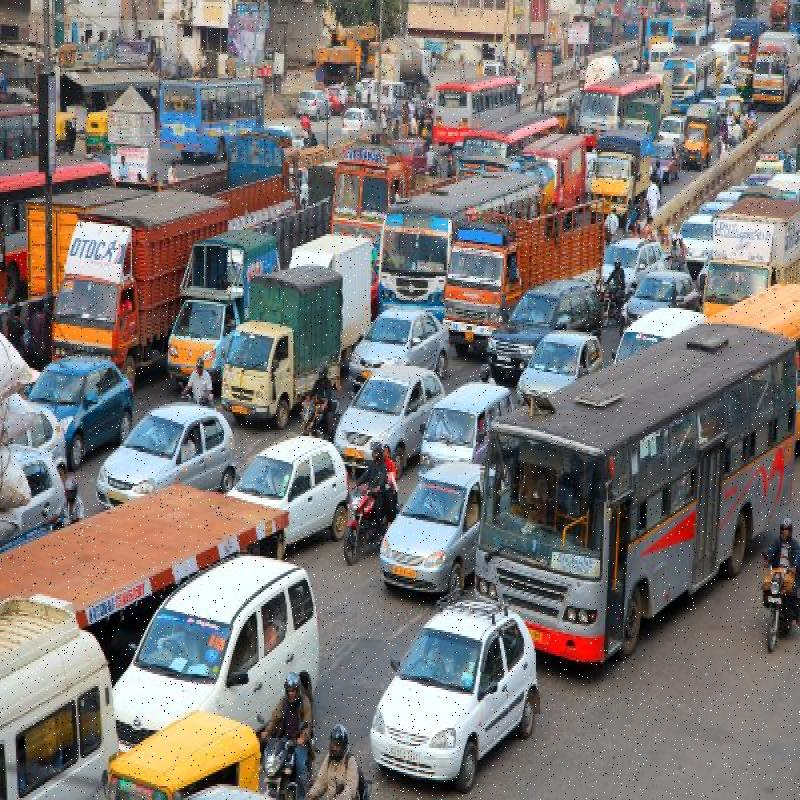bus: (492, 386, 780, 638)
car: (89, 564, 367, 697), (371, 625, 533, 790), (34, 334, 144, 450), (227, 460, 354, 559), (377, 467, 491, 576), (87, 399, 227, 474), (328, 387, 427, 467), (494, 294, 585, 350)
